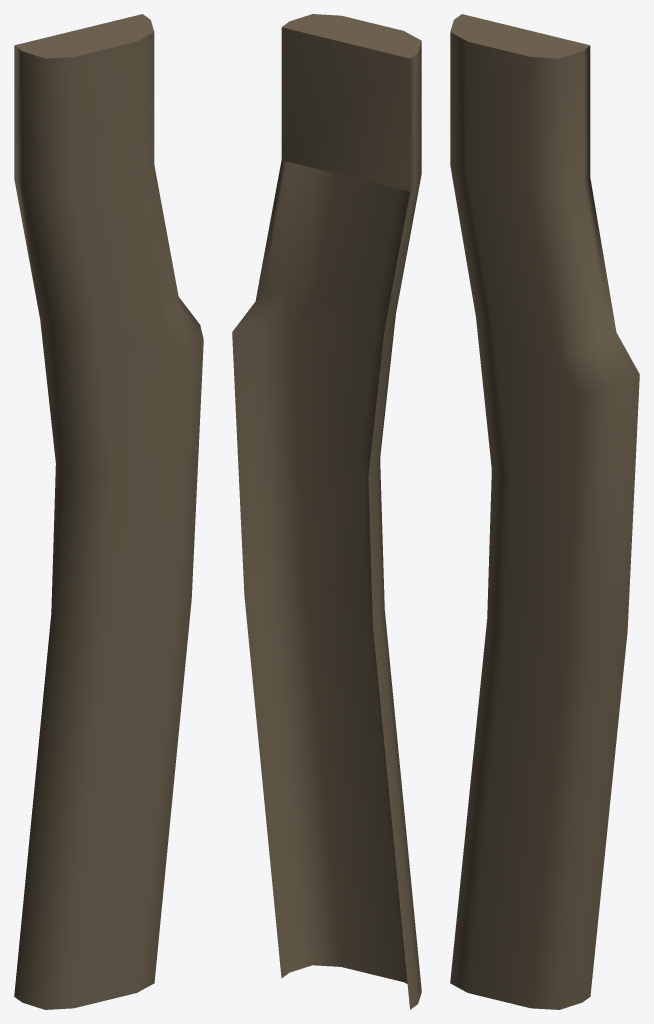
The model's file is SM_Beam01.fbx.
3 renders of one model, left to right at view 1: azimuth 30°, elevation 25°; view 2: azimuth 150°, elevation 25°; view 3: azimuth 330°, elevation 25°, orthographic.
Parts seen in each view (by area): view 1: pCube6; view 2: pCube6; view 3: pCube6.
Part boxes in pixels (left/top/right/bottom): pCube6: left=14, top=14, right=203, bottom=1009; pCube6: left=232, top=14, right=421, bottom=1009; pCube6: left=450, top=14, right=639, bottom=1009.
Size of the model in its own units: 56.89 by 291 by 14.88.
